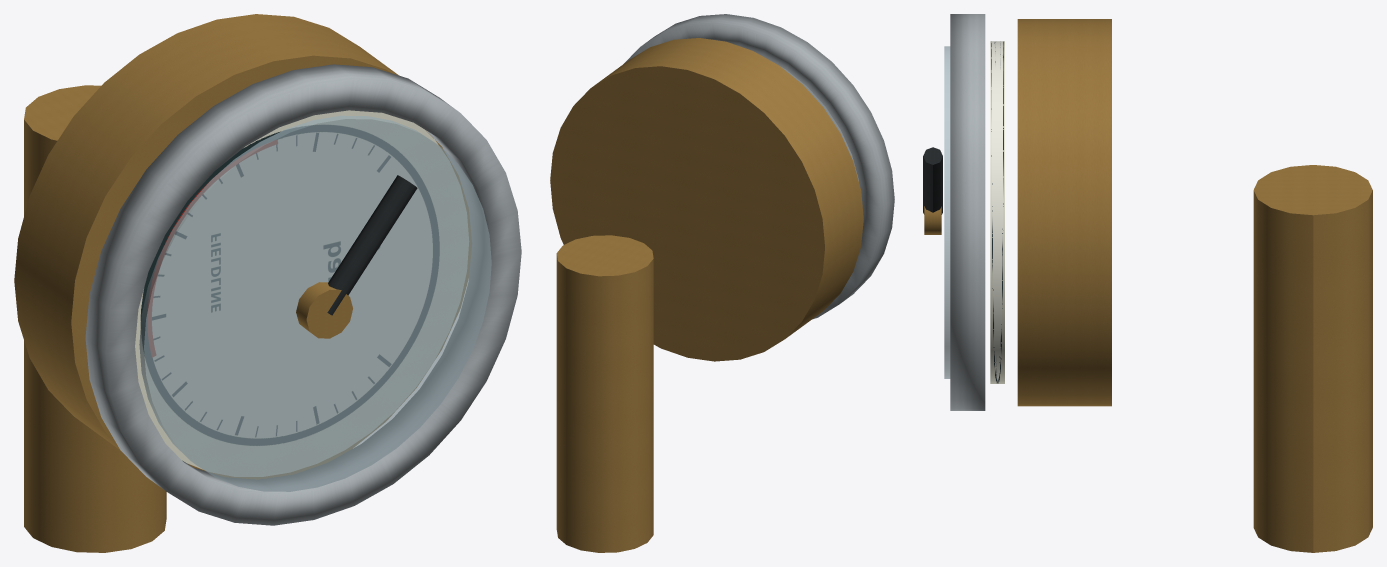
The model's file is PZ_Fieldline_Pressure_Gauge_Module.glb.
The picture shows the model from 3 angles, left to right: view 1: azimuth 30°, elevation 25°; view 2: azimuth 150°, elevation 25°; view 3: azimuth 270°, elevation 25°; orthographic projection. The views are drawn at different scales.
Visible parts, largest first — view 1: Gauge_Transparent_Lens, Gauge_White_Dial, Gauge_Front_Bezel, Gauge_Bezel_Back, Gauge_Brass_Stem, Gauge_Needle_Pivoted, Gauge_Needle_Hub; view 2: Gauge_Bezel_Back, Gauge_Brass_Stem, Gauge_Front_Bezel; view 3: Gauge_Brass_Stem, Gauge_Bezel_Back, Gauge_Front_Bezel, Gauge_White_Dial, Gauge_Transparent_Lens, Gauge_Needle_Pivoted.
Part boxes in pixels (x1,y1,x2,y2): Gauge_Transparent_Lens: (139, 115, 491, 491); Gauge_White_Dial: (135, 110, 468, 476); Gauge_Front_Bezel: (85, 64, 521, 525); Gauge_Bezel_Back: (14, 14, 471, 479); Gauge_Brass_Stem: (24, 85, 166, 552); Gauge_Needle_Pivoted: (327, 175, 417, 315); Gauge_Needle_Hub: (296, 282, 352, 338); Gauge_Bezel_Back: (550, 38, 863, 361); Gauge_Brass_Stem: (556, 235, 653, 552); Gauge_Front_Bezel: (624, 14, 894, 319); Gauge_Brass_Stem: (1253, 165, 1372, 552); Gauge_Bezel_Back: (1017, 19, 1111, 406); Gauge_Front_Bezel: (950, 14, 985, 410); Gauge_White_Dial: (990, 41, 1004, 383); Gauge_Transparent_Lens: (944, 46, 950, 378); Gauge_Needle_Pivoted: (923, 147, 942, 214).
Bounding box in the file's own units: 0.16 × 0.22 × 0.181.
Materials: 5 (5 with a texture image).
